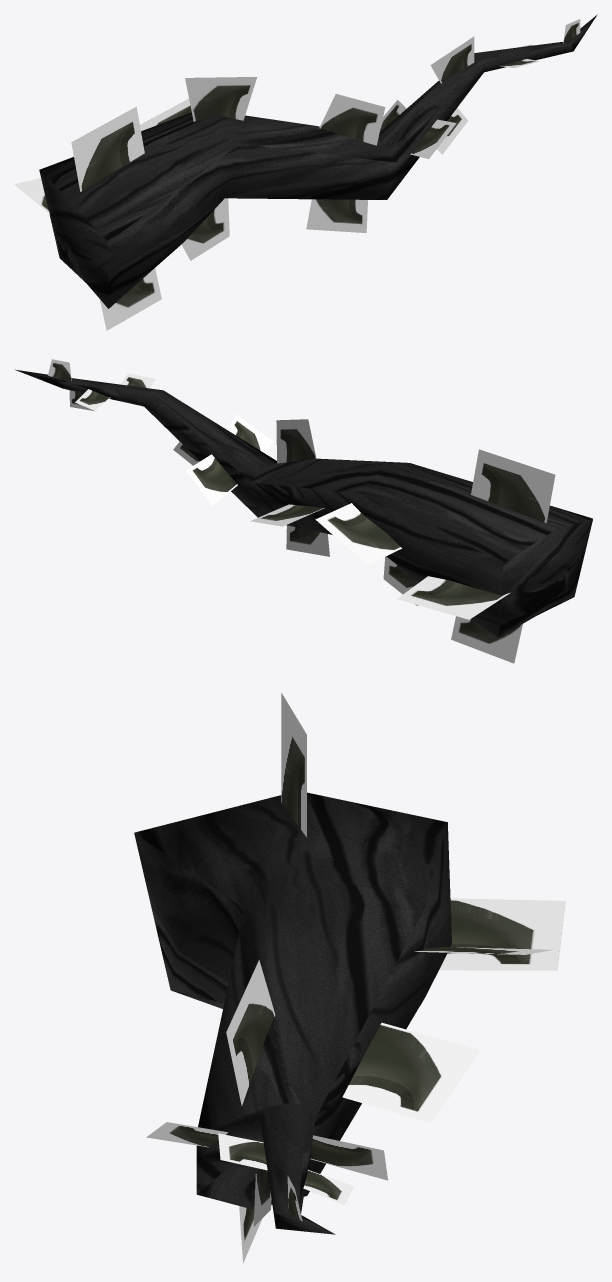
The model's file is shared_rootcorrupt_03.fbx.
3 renders of one model, top to bottom at view 1: azimuth 30°, elevation 25°; view 2: azimuth 150°, elevation 25°; view 3: azimuth 270°, elevation 25°, orthographic. The views are drawn at different scales.
Visible parts, largest first — view 1: shared_rootcorrupt_03; view 2: shared_rootcorrupt_03; view 3: shared_rootcorrupt_03.
Part boxes in pixels (<box>): shared_rootcorrupt_03: <box>14,14,597,330</box>; shared_rootcorrupt_03: <box>15,359,592,663</box>; shared_rootcorrupt_03: <box>134,693,565,1263</box>.
Size of the model in its own units: 5.73 by 2.2 by 2.41.
